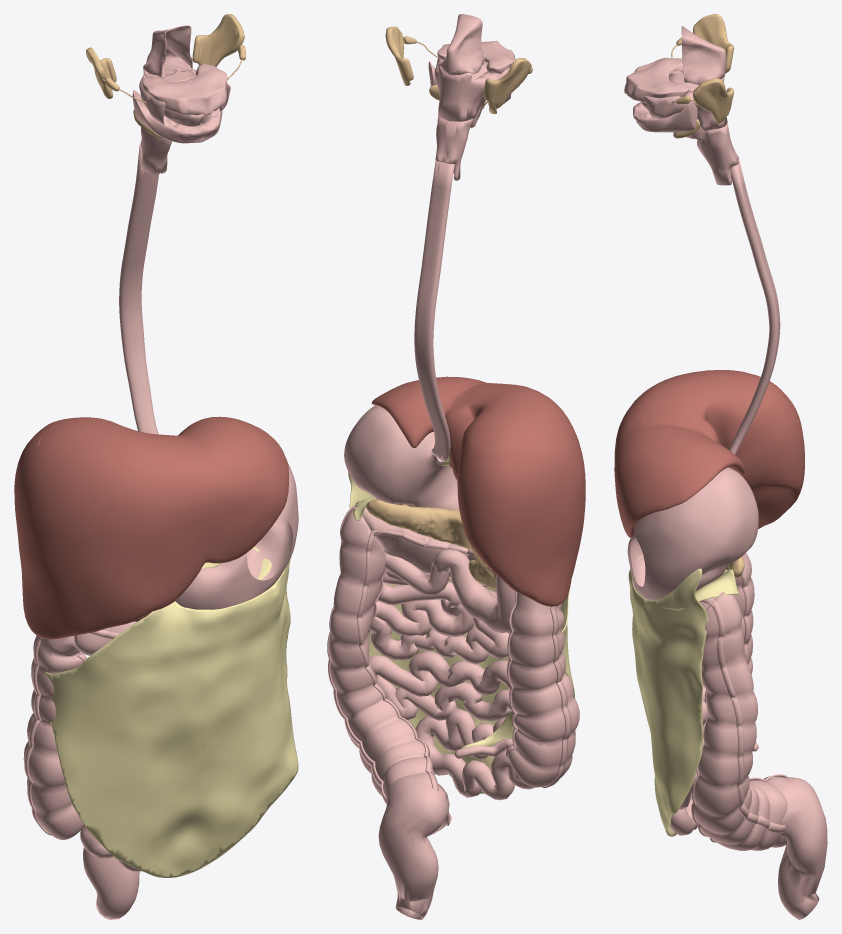
Rendered from digestive.glb.
3 views of the same model, side by side, from view 1: azimuth 30°, elevation 25°; view 2: azimuth 150°, elevation 25°; view 3: azimuth 270°, elevation 25° (orthographic). The views are drawn at different scales.
Parts seen in each view (by area): view 1: DIG.greater_omentum.C, DIG.liver.C, DIG.ascending_colon.C, DIG.oesophagus.C, DIG.stomach.C, DIG.gingiva.C, DIG.sigmoid_colon.C, DIG.parotid_gland.L, DIG.nasopharynx.C, DIG.mesocolic_taenia.C, DIG.laryngopharynx.C, DIG.transverse_colon.C (+4 smaller); view 2: DIG.liver.C, DIG.jejunum.C, DIG.descending_colon.C, DIG.ascending_colon.C, DIG.stomach.C, DIG.sigmoid_colon.C, DIG.oesophagus.C, DIG.pancreas.C, DIG.duodenum.C, DIG.free_taenia.C, DIG.greater_omentum.C, DIG.oropharynx.C (+9 smaller); view 3: DIG.liver.C, DIG.greater_omentum.C, DIG.descending_colon.C, DIG.stomach.C, DIG.sigmoid_colon.C, DIG.oesophagus.C, DIG.gingiva.C, DIG.mesocolic_taenia.C, DIG.nasopharynx.C, DIG.laryngopharynx.C, DIG.parotid_gland.L, DIG.oropharynx.C (+5 smaller).
Part boxes in pixels (<box>): DIG.greater_omentum.C: <box>44,551,298,877</box>; DIG.liver.C: <box>14,416,288,639</box>; DIG.ascending_colon.C: <box>23,635,84,839</box>; DIG.oesophagus.C: <box>119,145,158,434</box>; DIG.stomach.C: <box>175,463,298,609</box>; DIG.gingiva.C: <box>132,64,227,143</box>; DIG.sigmoid_colon.C: <box>83,848,139,919</box>; DIG.parotid_gland.L: <box>192,14,244,66</box>; DIG.nasopharynx.C: <box>143,25,192,76</box>; DIG.mesocolic_taenia.C: <box>24,630,119,835</box>; DIG.laryngopharynx.C: <box>140,127,171,174</box>; DIG.transverse_colon.C: <box>74,548,256,655</box>; DIG.liver.C: <box>371,376,585,606</box>; DIG.jejunum.C: <box>369,552,534,800</box>; DIG.descending_colon.C: <box>329,506,449,835</box>; DIG.ascending_colon.C: <box>508,592,579,787</box>; DIG.stomach.C: <box>344,405,459,511</box>; DIG.sigmoid_colon.C: <box>378,775,449,919</box>; DIG.oesophagus.C: <box>414,160,454,461</box>; DIG.pancreas.C: <box>366,500,496,589</box>; DIG.duodenum.C: <box>432,549,516,632</box>; DIG.free_taenia.C: <box>356,530,517,790</box>; DIG.greater_omentum.C: <box>348,472,575,793</box>; DIG.oropharynx.C: <box>434,57,509,121</box>; DIG.liver.C: <box>614,370,804,537</box>; DIG.greater_omentum.C: <box>628,555,708,836</box>; DIG.descending_colon.C: <box>694,592,787,850</box>; DIG.stomach.C: <box>627,467,758,600</box>; DIG.sigmoid_colon.C: <box>777,777,827,919</box>; DIG.oesophagus.C: <box>728,157,780,454</box>; DIG.gingiva.C: <box>624,57,697,132</box>; DIG.mesocolic_taenia.C: <box>699,598,785,832</box>; DIG.nasopharynx.C: <box>681,26,726,84</box>; DIG.laryngopharynx.C: <box>697,122,738,185</box>; DIG.parotid_gland.L: <box>693,78,734,123</box>; DIG.oropharynx.C: <box>644,76,727,131</box>.
Bounding box in the file's own units: 0.2292 × 0.7874 × 0.1712.
